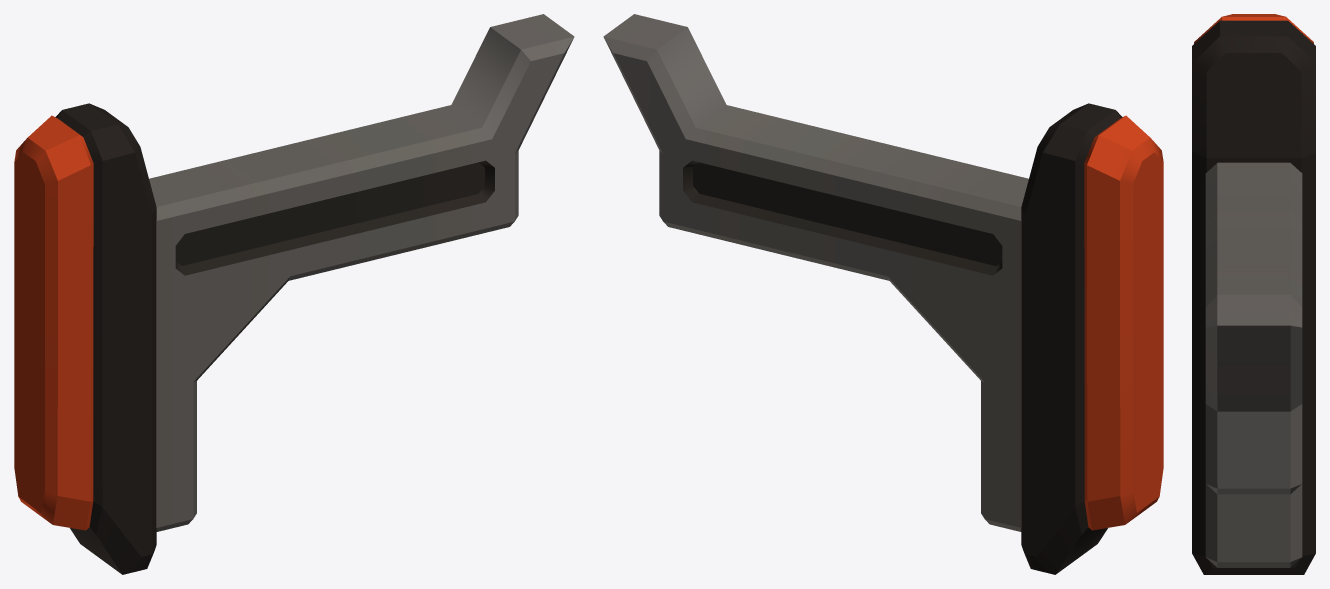
Rendered from SMG4_ButtstockLight.fbx.
3 renders of one model, left to right at view 1: azimuth 30°, elevation 25°; view 2: azimuth 150°, elevation 25°; view 3: azimuth 270°, elevation 25°, orthographic. The views are drawn at different scales.
Visible parts, largest first — view 1: SMG4_ButtstockLight; view 2: SMG4_ButtstockLight; view 3: SMG4_ButtstockLight.
Boxes of the visible parts, bbox=[...] form: SMG4_ButtstockLight: bbox=[14, 14, 574, 574]; SMG4_ButtstockLight: bbox=[603, 14, 1163, 574]; SMG4_ButtstockLight: bbox=[1192, 14, 1315, 574].
Bounding box in the file's own units: 17.08 × 13.72 × 2.93.
